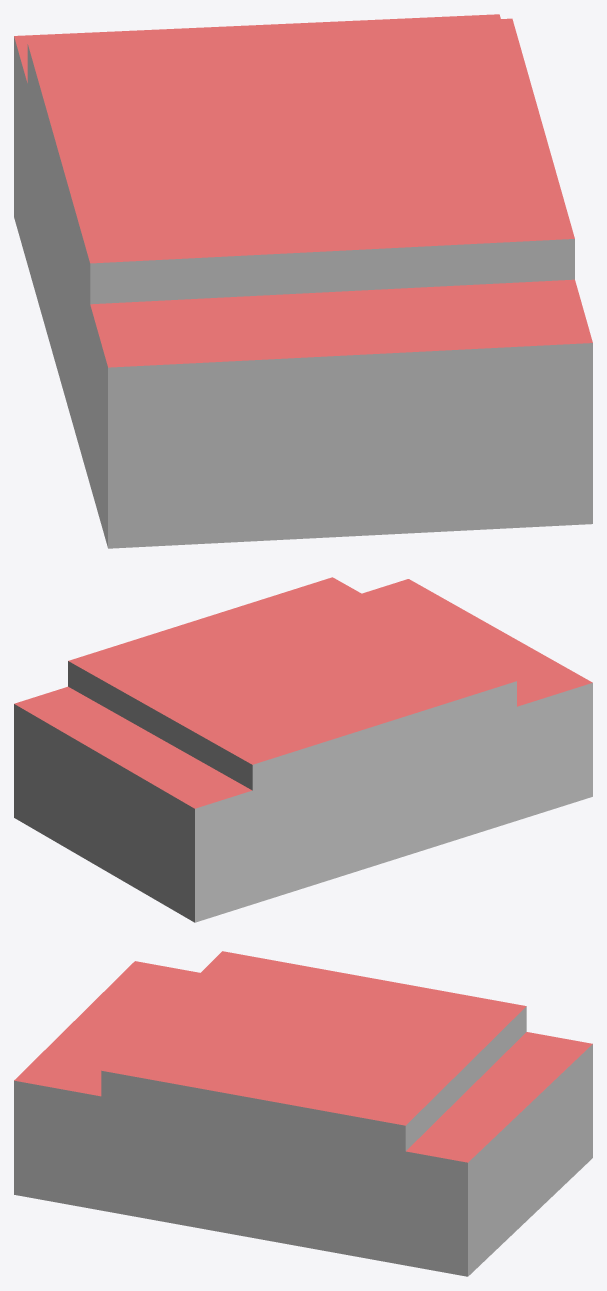
File: DEBY_LOD2_4906984.gltf
3 views of the same model, one above another, from view 1: azimuth 30°, elevation 25°; view 2: azimuth 150°, elevation 25°; view 3: azimuth 270°, elevation 25° (orthographic). The views are drawn at different scales.
Visible parts, largest first — view 1: Z_UP; view 2: Z_UP; view 3: Z_UP.
Part boxes in pixels (left/top/right/bottom): Z_UP: left=14, top=14, right=592, bottom=548; Z_UP: left=14, top=577, right=592, bottom=922; Z_UP: left=14, top=951, right=592, bottom=1276.
Bounding box in the file's own units: 19.17 × 6.2 × 23.26.
